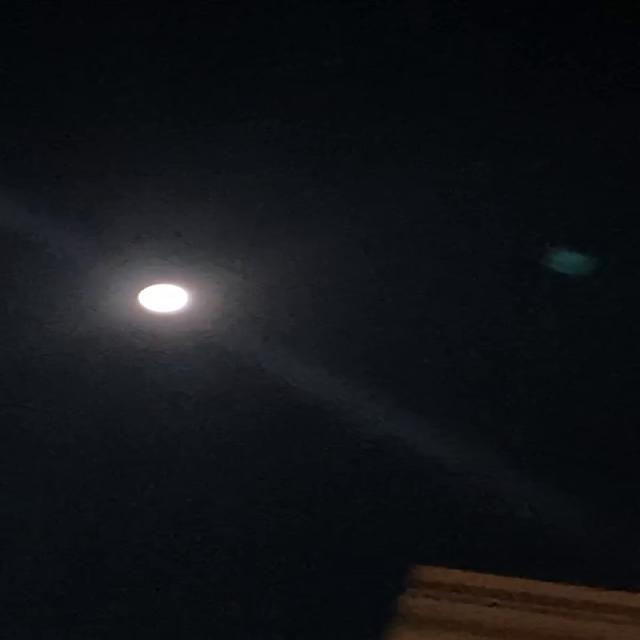moon: (116, 278, 206, 324)
